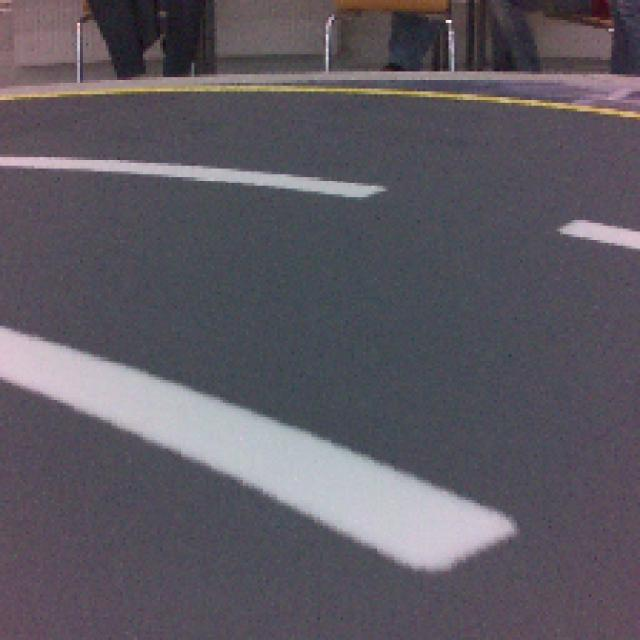Pedestrian crosswalk: (2, 329, 516, 573)
